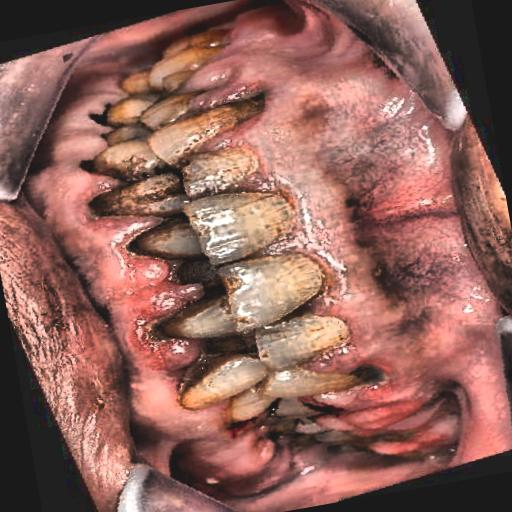Calculus: (74, 25, 364, 500)
